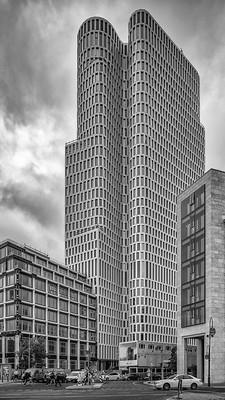building: (59, 9, 208, 395)
